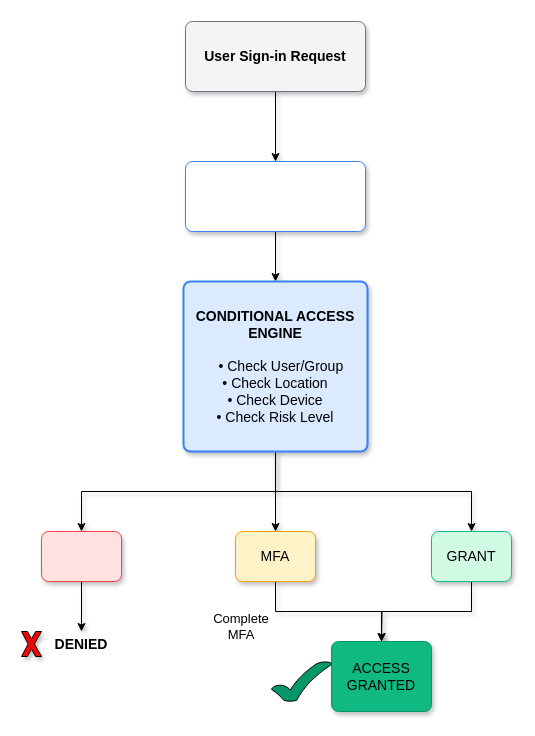
Image size: 535x736. Some labels were removed from this diagram. Each missing label, with the centre of its shape:
"Authentication (Password)" belongs at point 276,197.
"BLOCK" belongs at point 82,557.
